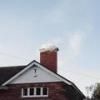chimneys: (40, 45, 60, 74)
